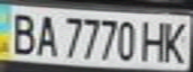0: (115, 17, 142, 63)
7: (57, 12, 84, 60), (78, 15, 100, 60), (100, 16, 121, 62)
A: (33, 11, 60, 56)
B: (3, 8, 39, 56)
H: (139, 17, 172, 63)
K: (160, 17, 193, 64)
